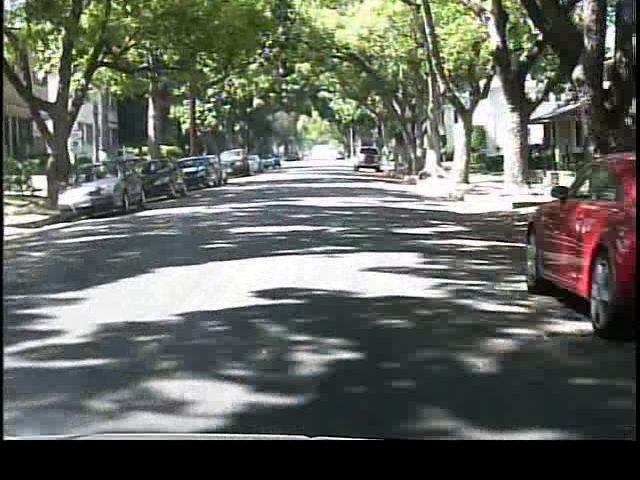person: (88, 143, 114, 196)
